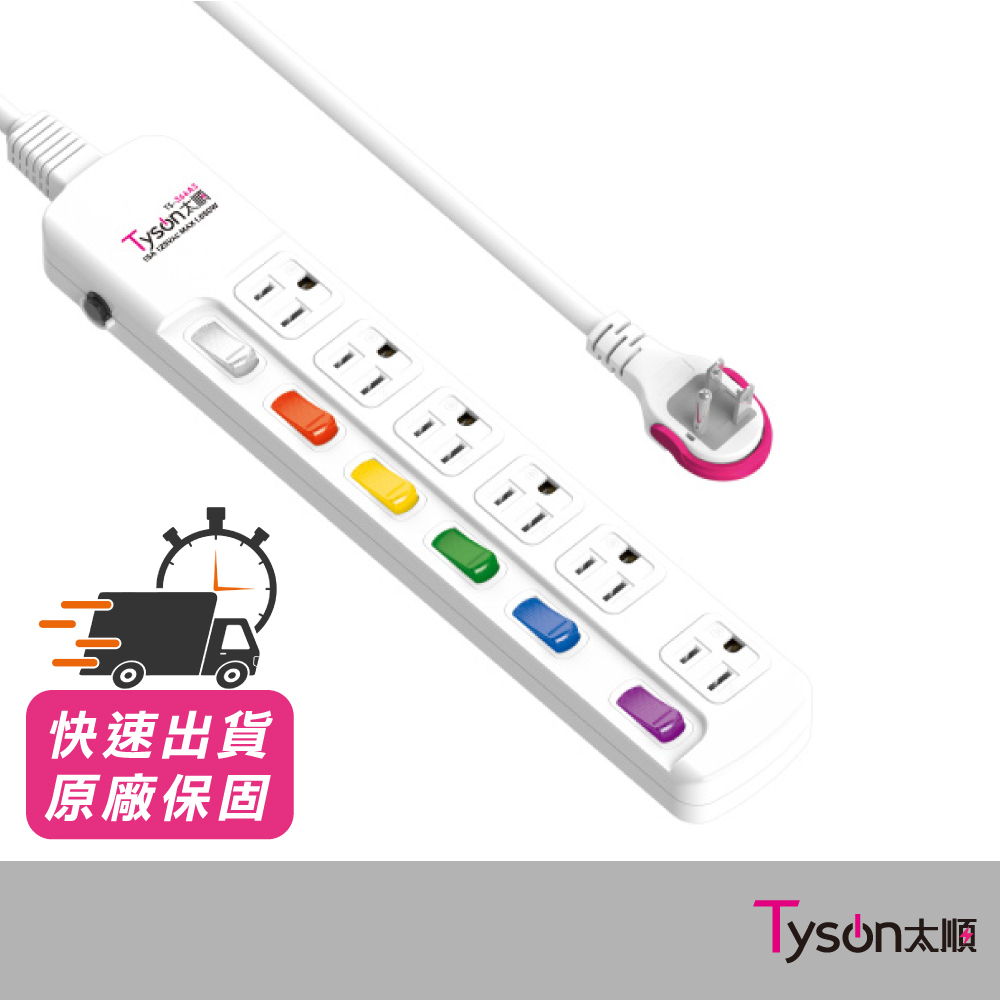socket: (8, 109, 821, 828)
